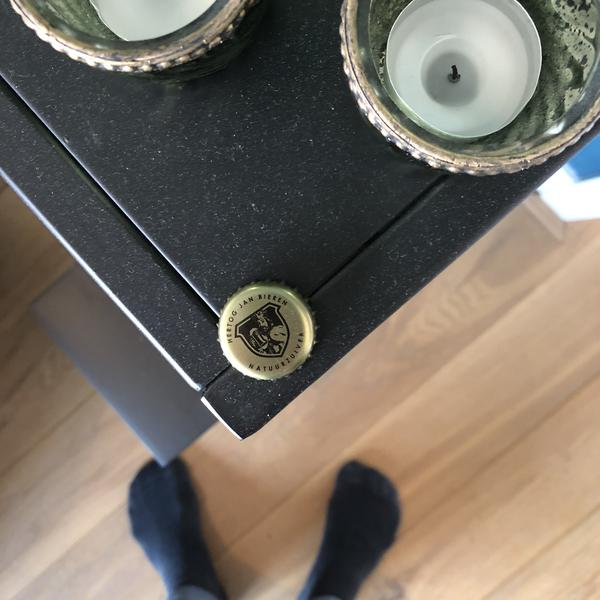hertogjan: (217, 284, 315, 382)
